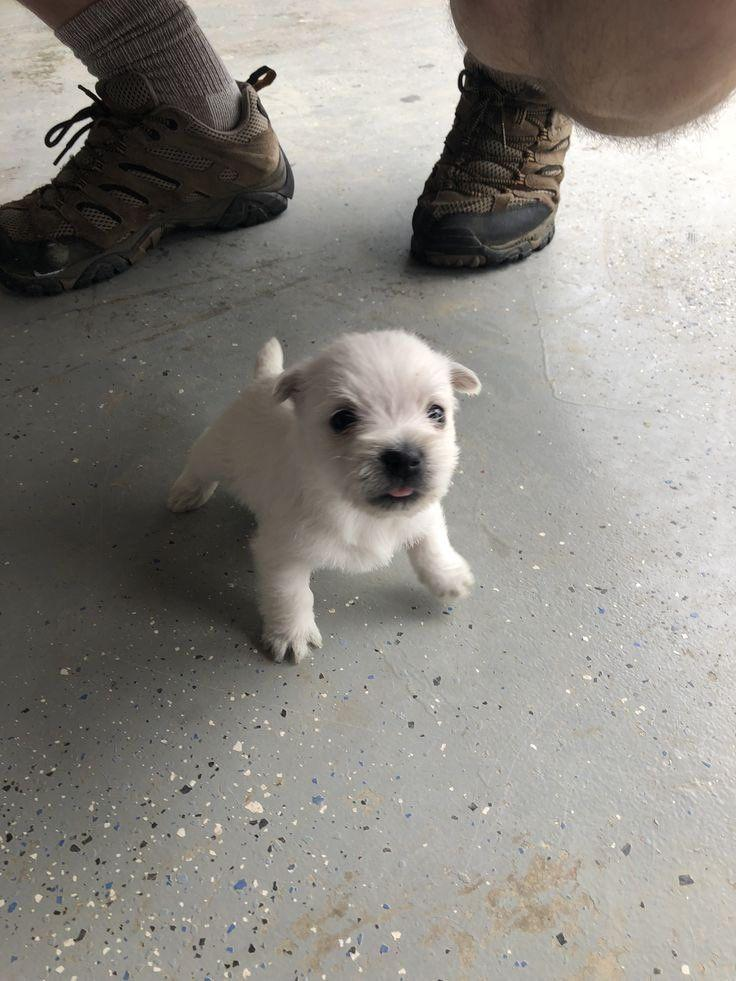non-dog: (1, 0, 736, 296)
puppy-dog: (167, 326, 481, 665)
